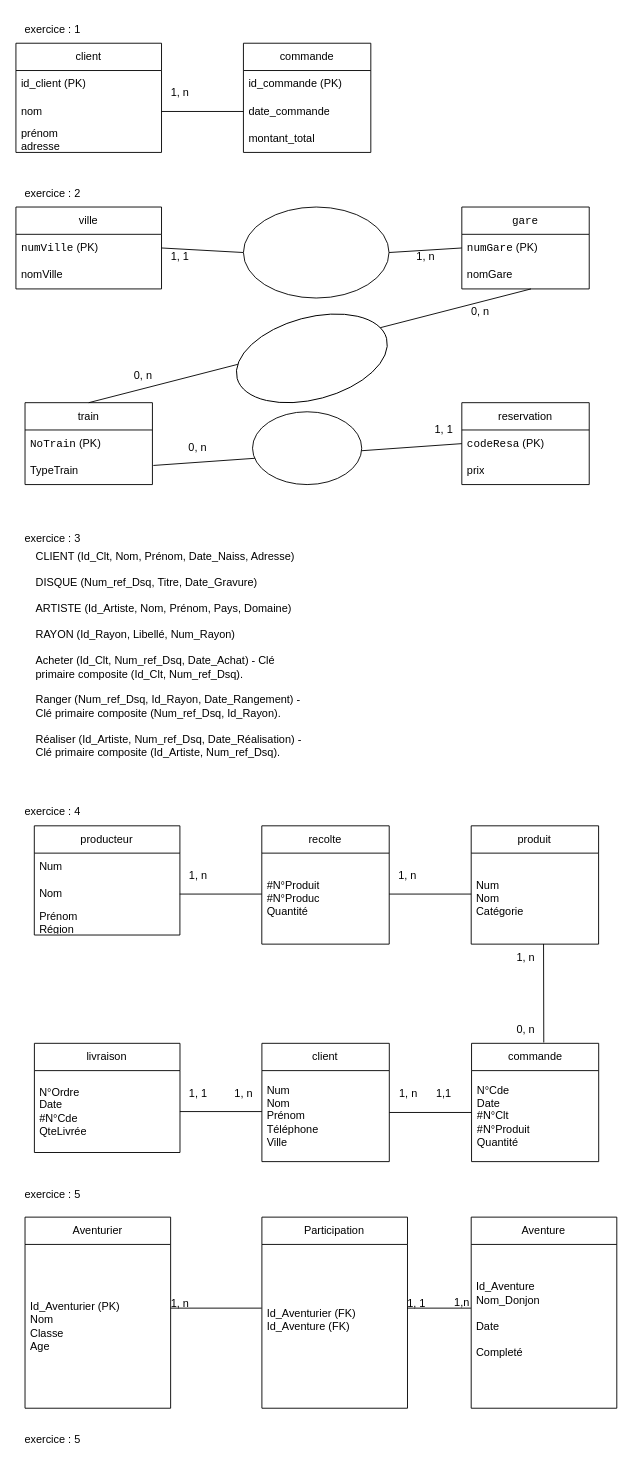
Image size: 633x1469. Some labels were removed from this diagram. Here are the shapes that lost their labels. From the top down, the centre of each, then its label:
At (316,252): "etre situé".
At (311,358): "roulé".
At (307,448): "posédé".
